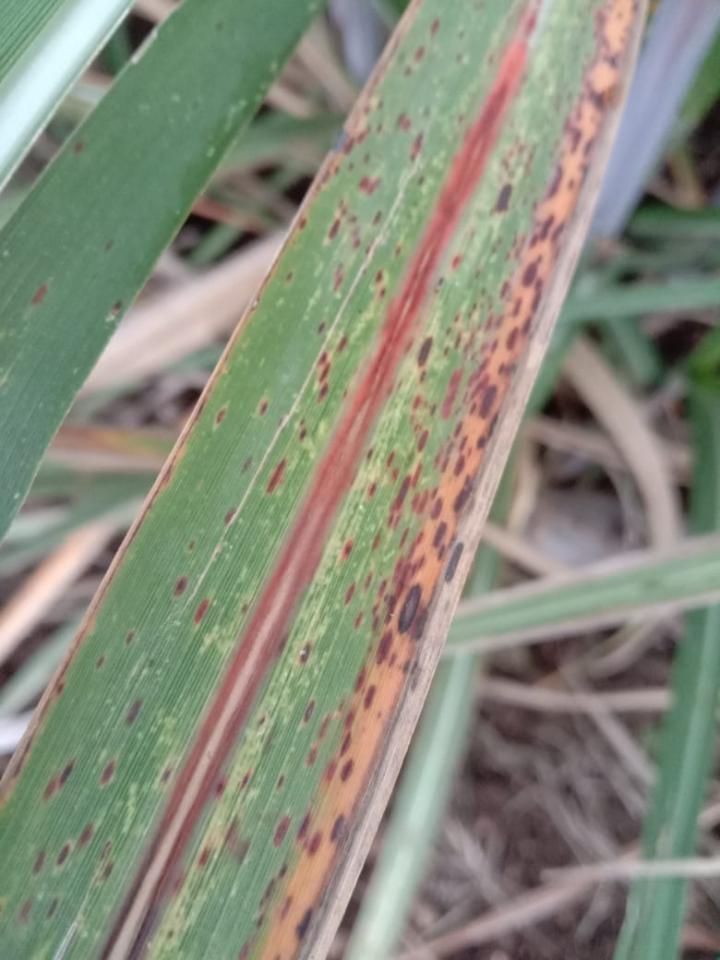RedRot: (92, 0, 552, 959)
Rust: (297, 0, 643, 792), (12, 237, 292, 778), (177, 13, 466, 530), (6, 623, 176, 924), (178, 758, 354, 959), (162, 571, 221, 631), (294, 637, 316, 669), (217, 500, 236, 533), (336, 536, 356, 564), (184, 530, 203, 555), (363, 474, 380, 500), (236, 593, 253, 618), (447, 252, 465, 275), (453, 50, 466, 65)
Yellow: (249, 0, 643, 959)
